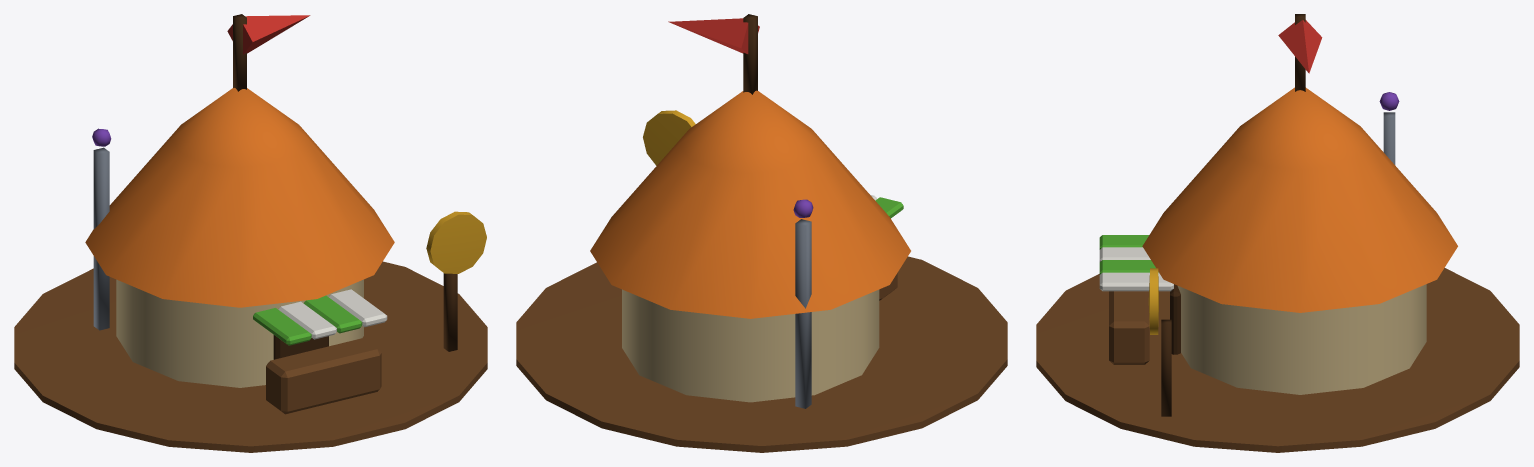
3 views of the same model, side by side, from view 1: azimuth 30°, elevation 25°; view 2: azimuth 150°, elevation 25°; view 3: azimuth 270°, elevation 25° (orthographic). The views are drawn at different scales.
Visible parts, largest first — view 1: vila_0_base, vila_1_torreta; view 2: vila_0_base, vila_1_torreta; view 3: vila_0_base, vila_1_torreta.
Part boxes in pixels (x1,y1,x2,y2): vila_0_base: [14, 88, 487, 452]; vila_1_torreta: [227, 14, 310, 91]; vila_0_base: [516, 90, 1007, 452]; vila_1_torreta: [668, 14, 759, 94]; vila_0_base: [1036, 87, 1519, 452]; vila_1_torreta: [1278, 14, 1322, 91].
Bounding box in the file's own units: 1.32 × 0.993 × 1.3.
